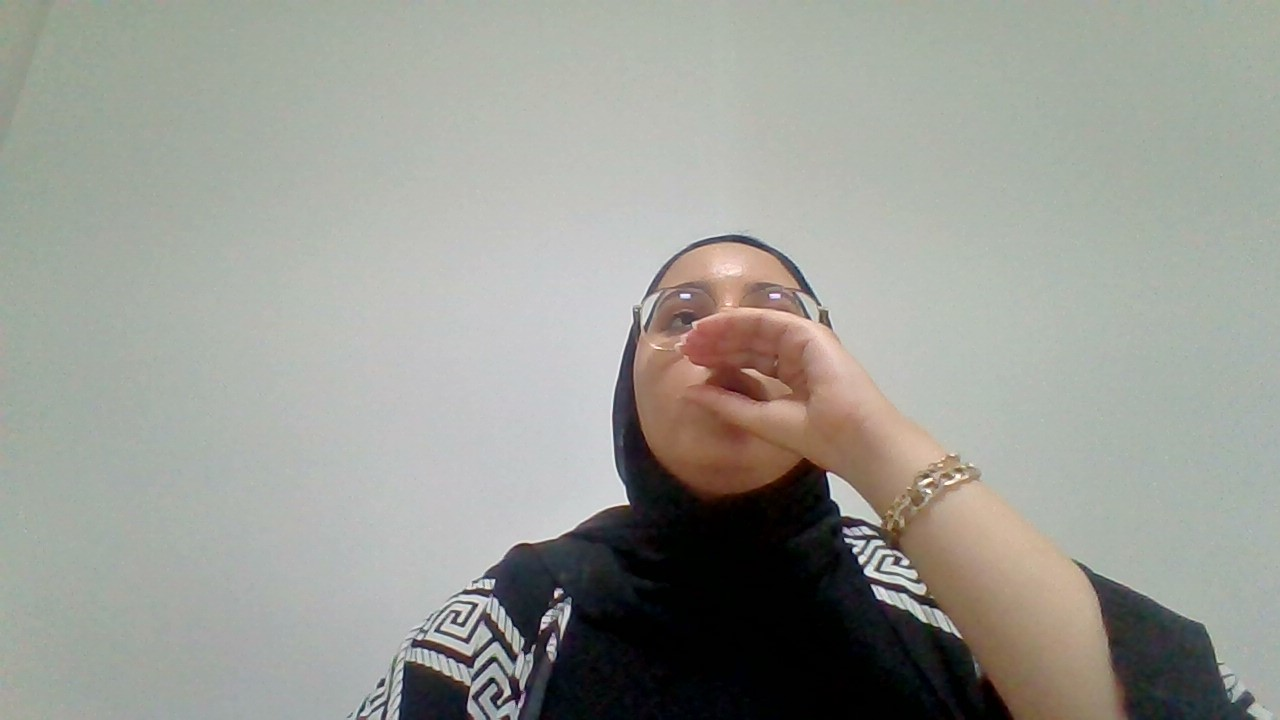drink: (665, 308, 891, 460)
